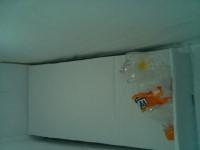bottle: (0, 47, 41, 142)
